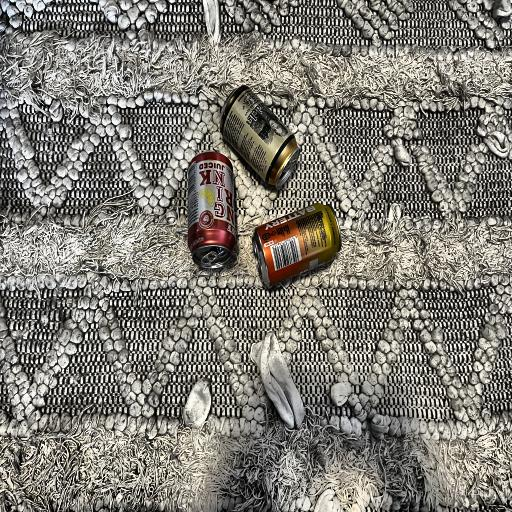koff: (183, 145, 237, 280)
sandels: (211, 77, 312, 190)
